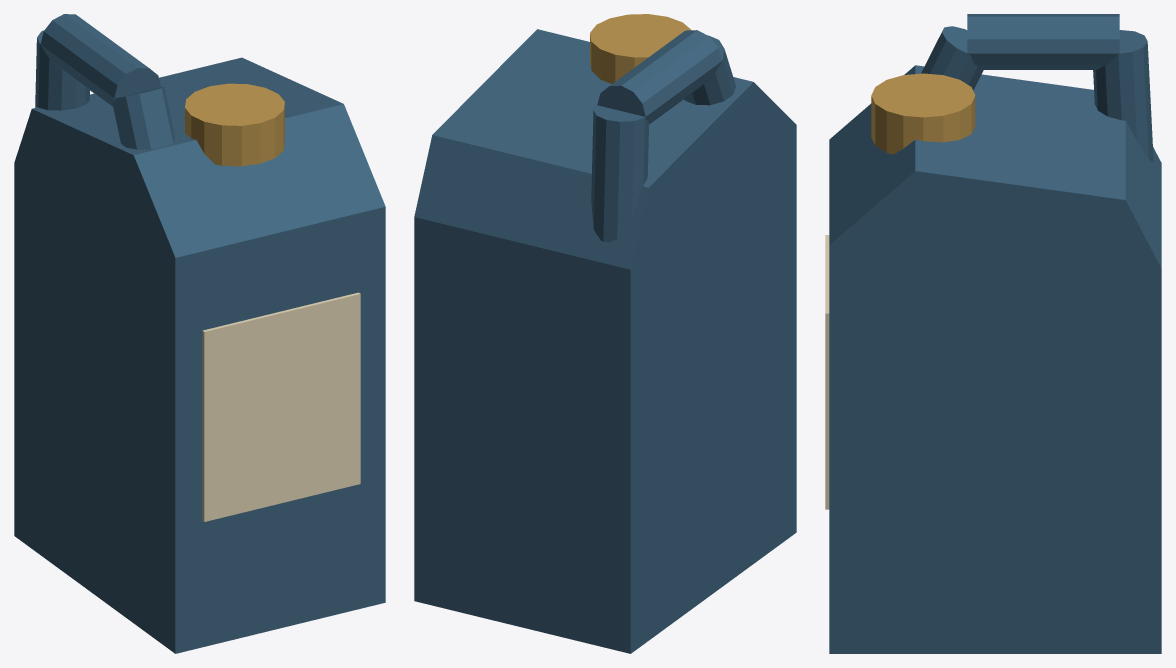
The model's file is SUP_Oil.glb.
The picture shows the model from 3 angles, left to right: view 1: azimuth 30°, elevation 25°; view 2: azimuth 150°, elevation 25°; view 3: azimuth 270°, elevation 25°; orthographic projection. The views are drawn at different scales.
Parts seen in each view (by area): view 1: Bottle, Label, MouldedHandle, Cap; view 2: Bottle, MouldedHandle, Cap; view 3: Bottle, MouldedHandle, Cap, Label.
Part boxes in pixels (x1=…): Bottle: x1=14, y1=57, x2=385, y2=653; Label: x1=202, y1=292, x2=360, y2=521; MouldedHandle: x1=35, y1=14, x2=175, y2=149; Cap: x1=185, y1=83, x2=284, y2=166; Bottle: x1=414, y1=29, x2=796, y2=653; MouldedHandle: x1=591, y1=30, x2=735, y2=242; Cap: x1=590, y1=14, x2=691, y2=83; Bottle: x1=829, y1=65, x2=1161, y2=653; MouldedHandle: x1=921, y1=14, x2=1153, y2=162; Cap: x1=871, y1=73, x2=975, y2=154; Label: x1=825, y1=235, x2=829, y2=509.
Size of the model in its own units: 0.125 by 0.301 by 0.168.
